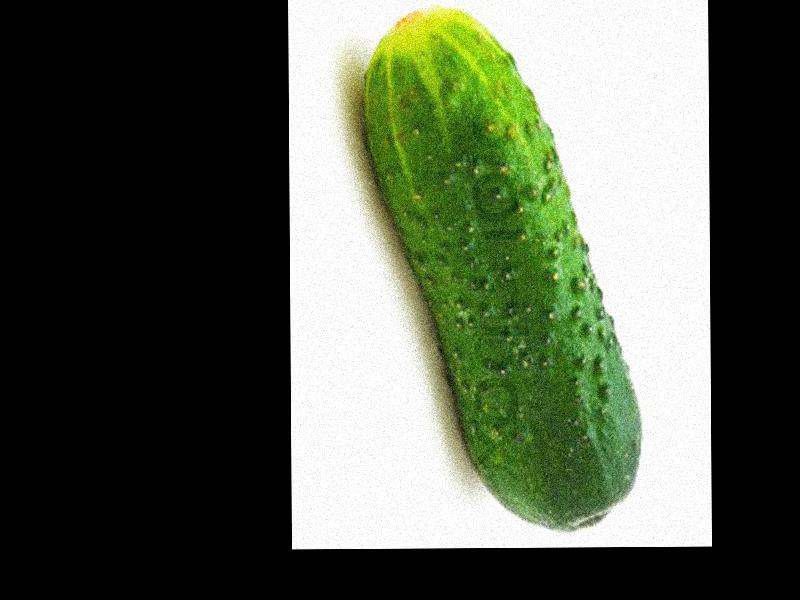Cucumber: (361, 4, 642, 529)
